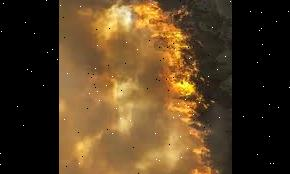fire: (123, 0, 203, 138), (171, 144, 227, 174)
